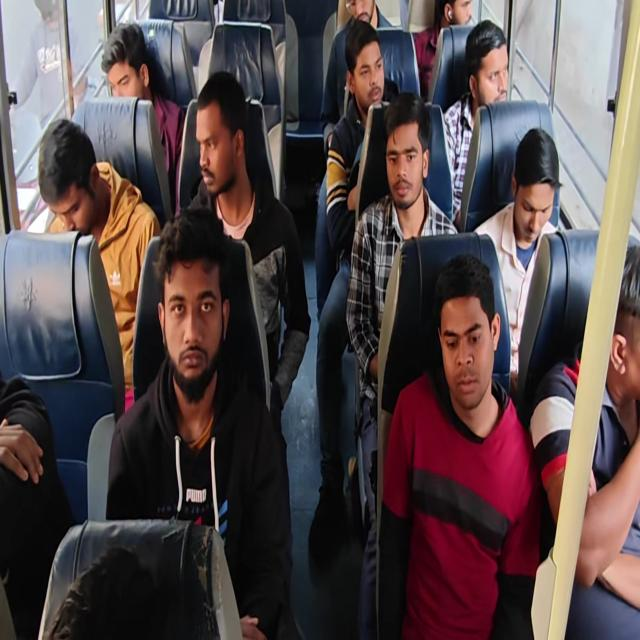person: (2, 1, 638, 638), (105, 206, 295, 638), (376, 252, 543, 638), (345, 90, 459, 636), (308, 18, 394, 569), (185, 70, 311, 435), (529, 240, 639, 610), (37, 117, 162, 411), (473, 126, 562, 402), (0, 371, 74, 637), (100, 21, 186, 215), (325, 19, 391, 262), (442, 20, 509, 226), (320, 0, 394, 157), (9, 0, 91, 131), (413, 0, 475, 101), (336, 0, 392, 32)
